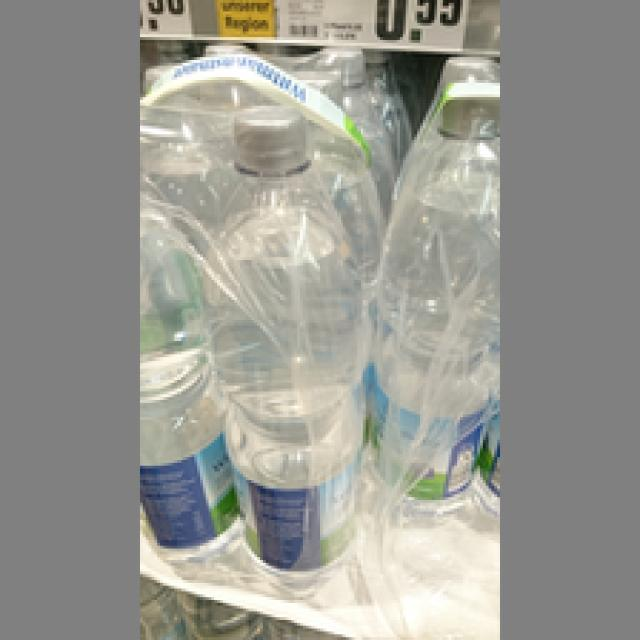groceries: (203, 100, 357, 589), (363, 77, 497, 529), (137, 157, 234, 572)
